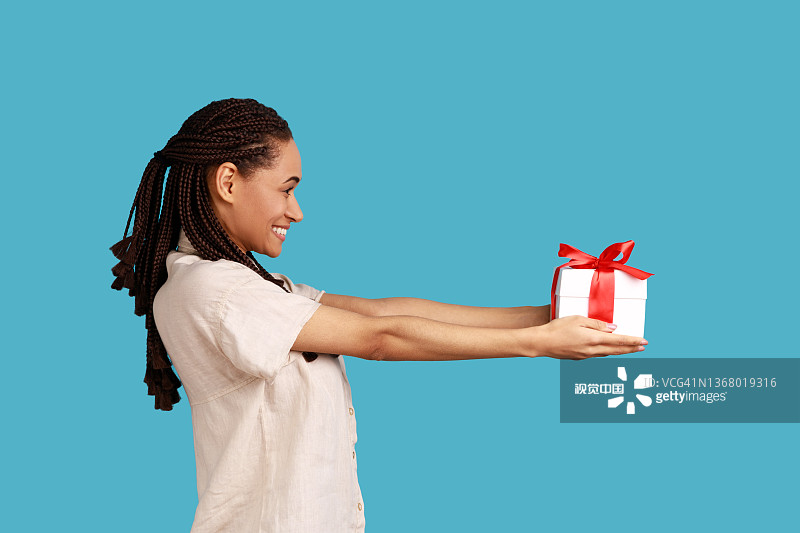no-phone: (533, 310, 659, 364)
